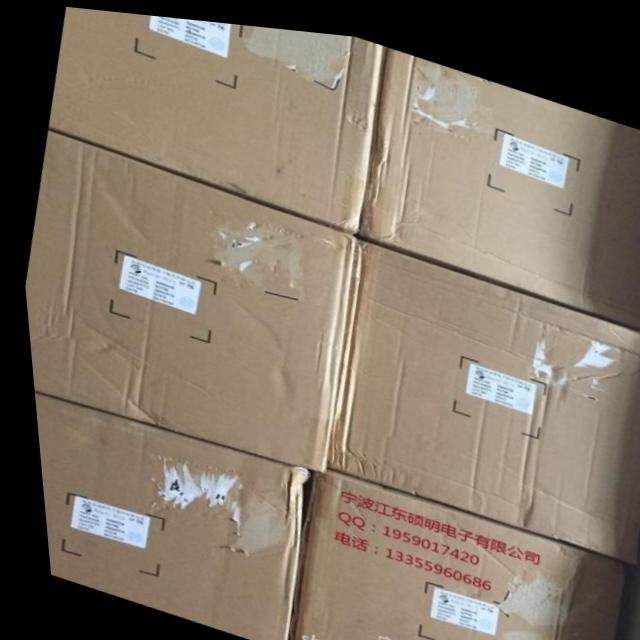box: (20, 128, 355, 468), (319, 229, 640, 552), (355, 40, 640, 317), (45, 5, 385, 228), (27, 392, 306, 640), (277, 463, 616, 640)
